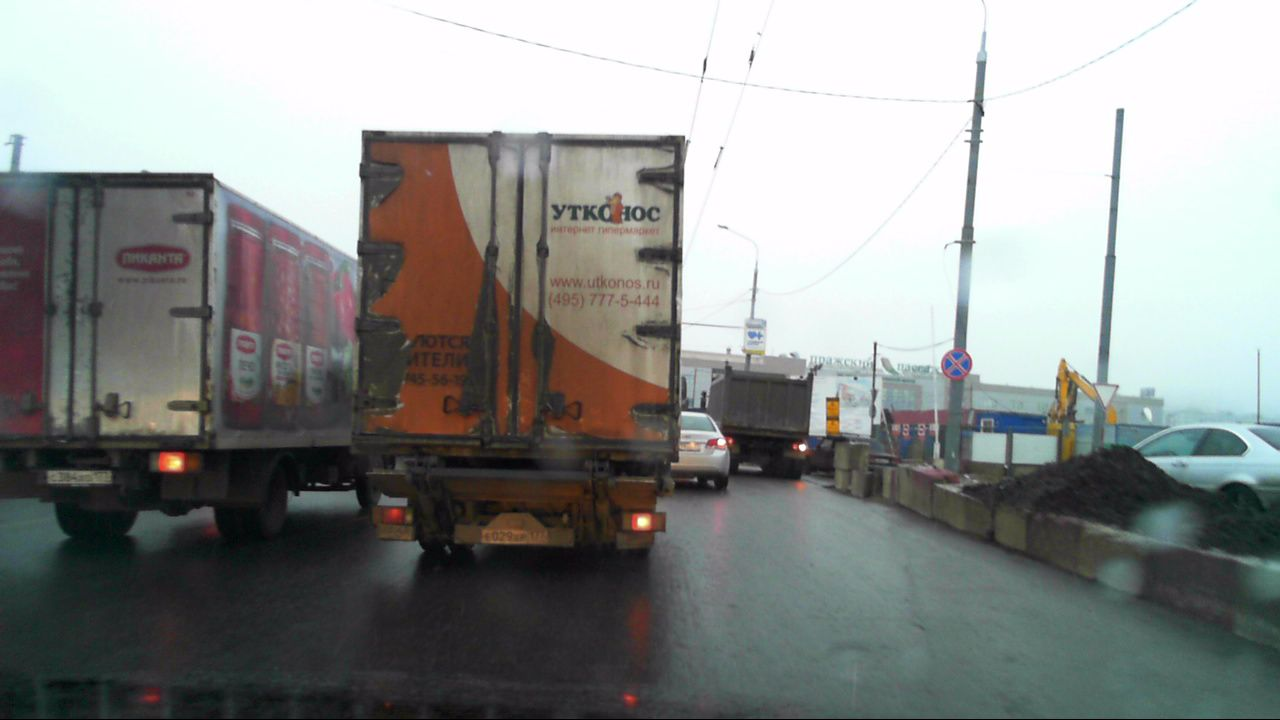No Parking: (941, 349, 973, 379)
